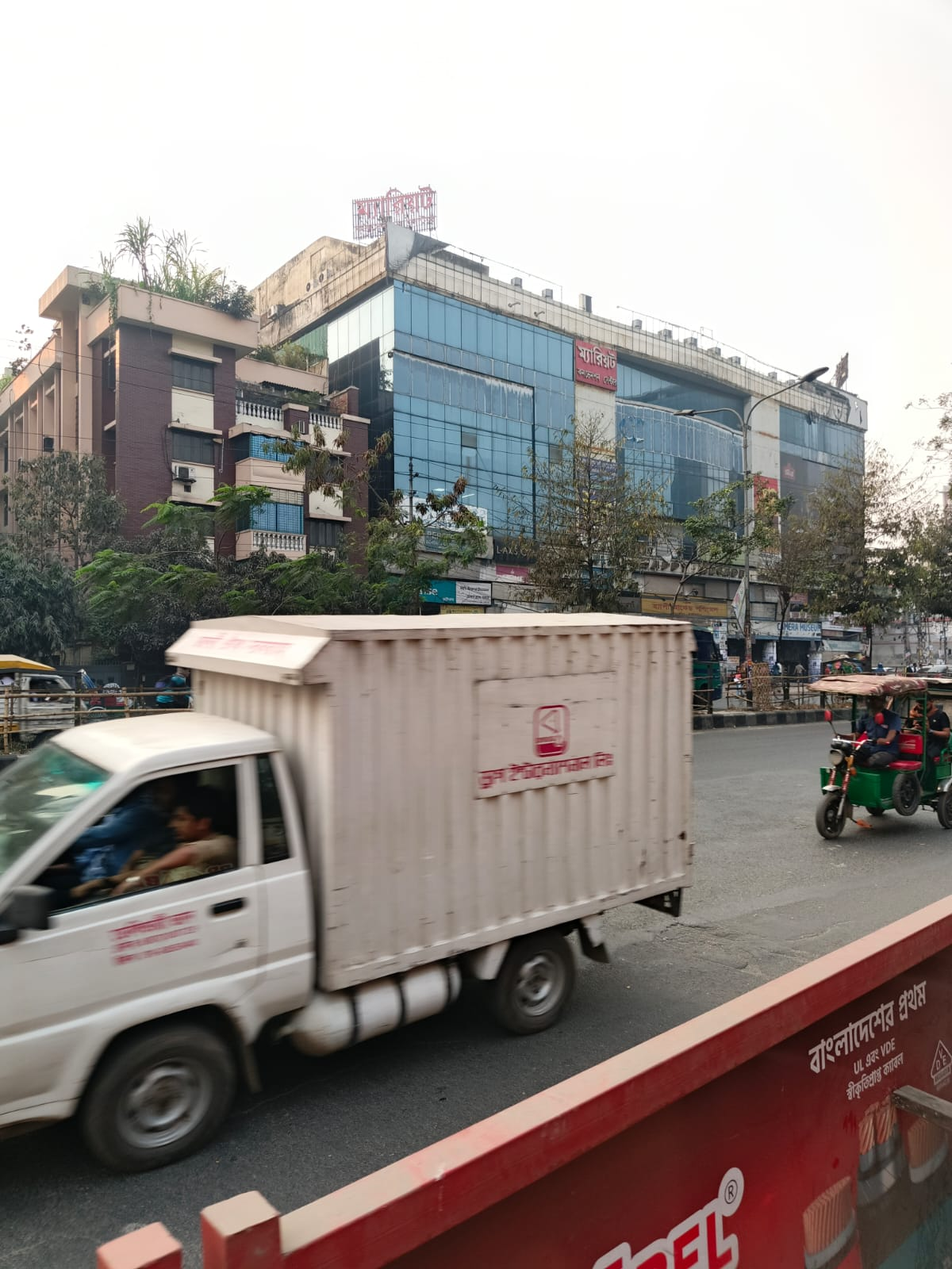Leguna: (3, 640, 78, 729)
Pickup: (0, 606, 698, 1153)
auto-ricksaw: (814, 661, 952, 910)
